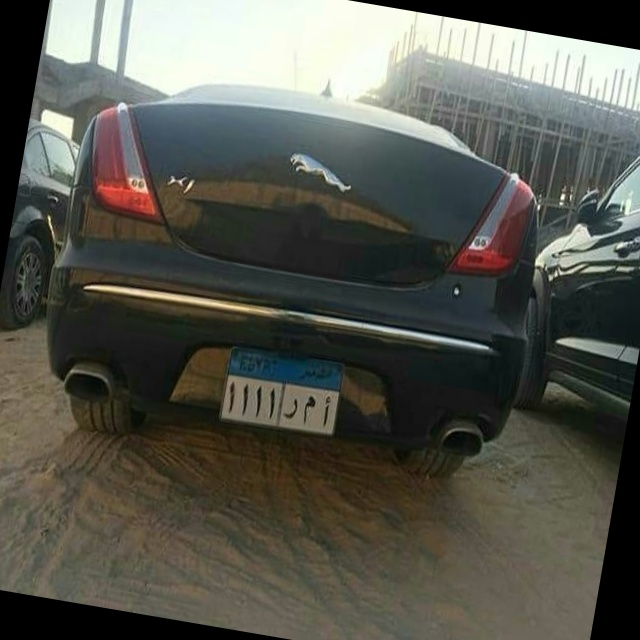License Plate: (209, 335, 352, 443)
